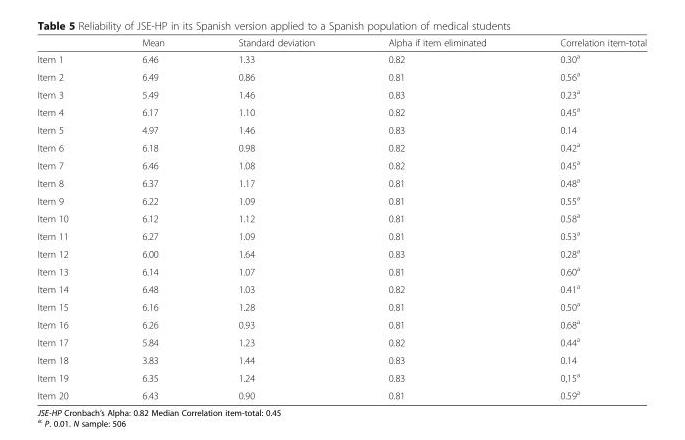table: (36, 36, 646, 400)
table column: (350, 36, 522, 400), (200, 36, 350, 400), (522, 36, 646, 400), (104, 36, 200, 400), (36, 36, 104, 400)
table column header: (36, 36, 646, 49)
table row: (36, 66, 646, 84), (36, 84, 646, 102), (36, 102, 646, 120), (36, 137, 646, 155), (36, 155, 646, 173), (36, 190, 646, 208), (36, 208, 646, 226), (36, 226, 646, 244), (36, 261, 646, 279), (36, 279, 646, 297), (36, 314, 646, 332), (36, 332, 646, 350), (36, 367, 646, 385), (36, 49, 646, 66), (36, 120, 646, 137), (36, 173, 646, 190), (36, 244, 646, 261), (36, 297, 646, 314), (36, 350, 646, 367), (36, 385, 646, 400), (36, 36, 646, 49)
